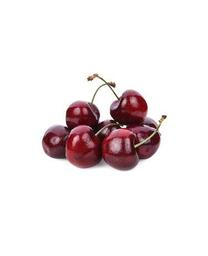cherry: (102, 129, 140, 172), (65, 125, 102, 168), (109, 89, 148, 128), (127, 124, 161, 160), (42, 124, 69, 159), (66, 101, 100, 128)
